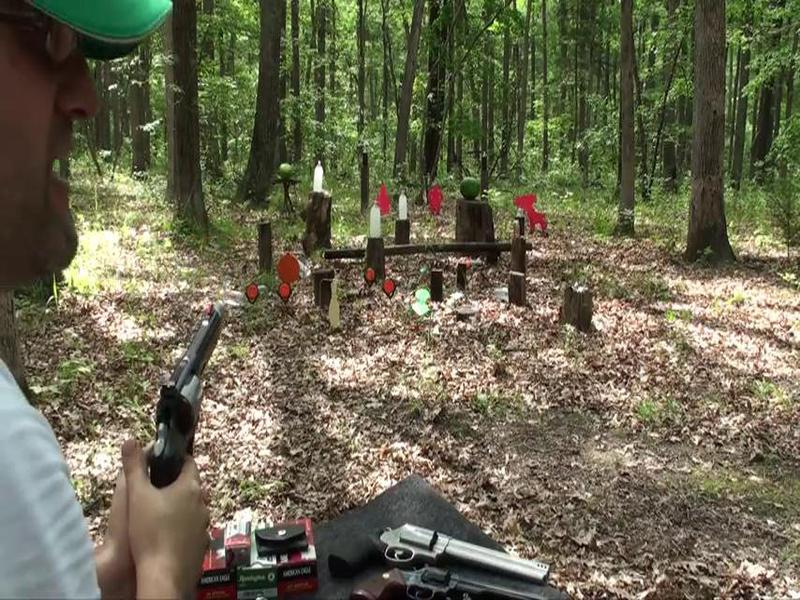Revolver: (137, 280, 240, 517)
